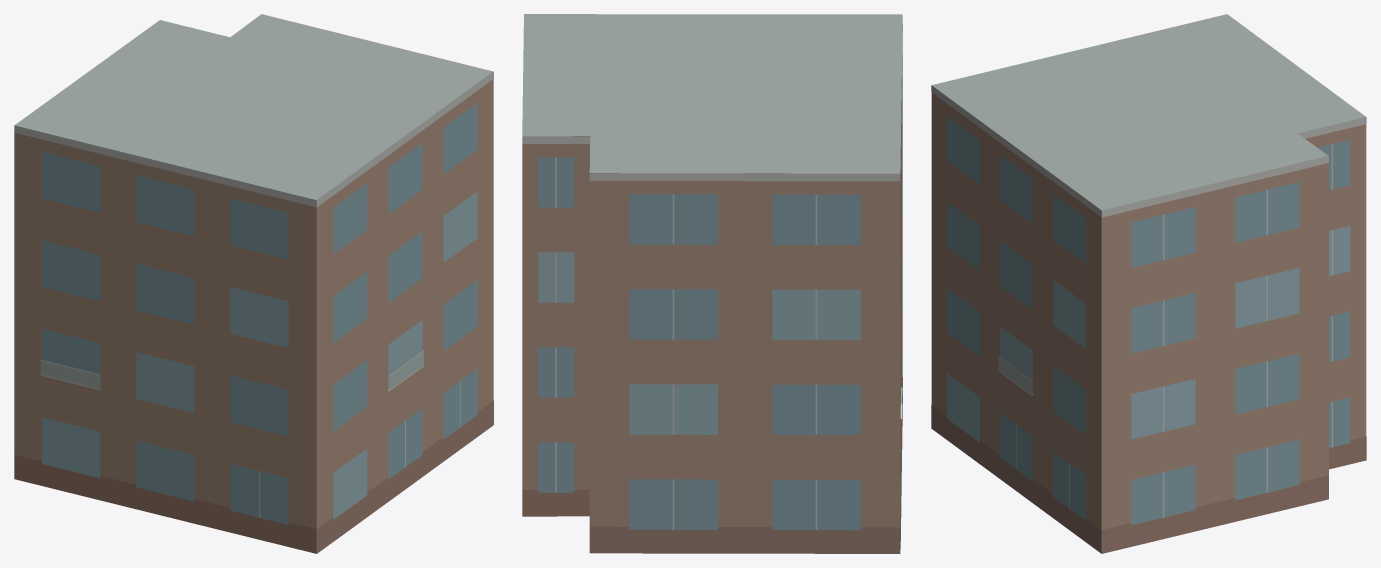
File: survey-upis-32906407.glb
3 views of the same model, side by side, from view 1: azimuth 30°, elevation 25°; view 2: azimuth 150°, elevation 25°; view 3: azimuth 270°, elevation 25° (orthographic). The views are drawn at different scales.
Parts seen in each view (by area): view 1: survey-upis-32906407.tmp; view 2: survey-upis-32906407.tmp; view 3: survey-upis-32906407.tmp.
Part boxes in pixels (bbox=[...]): survey-upis-32906407.tmp: bbox=[14, 14, 493, 553]; survey-upis-32906407.tmp: bbox=[522, 14, 902, 553]; survey-upis-32906407.tmp: bbox=[931, 14, 1366, 553].
Size of the model in its own units: 14.61 by 11.9 by 13.67.
